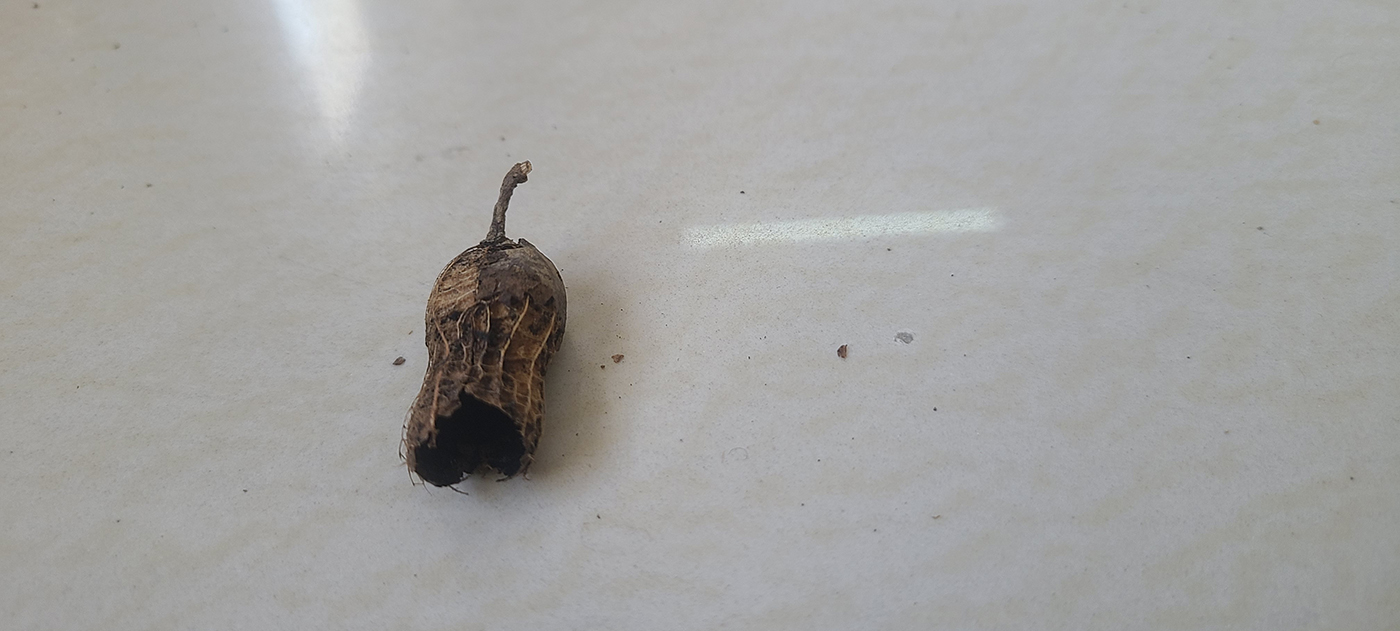l: (399, 235, 569, 491)
